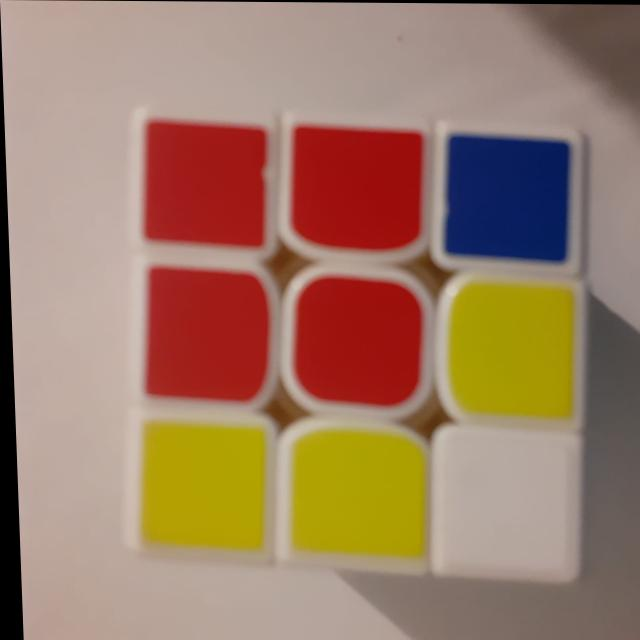Blue: (438, 130, 580, 264)
Red: (281, 116, 424, 258), (132, 111, 273, 253), (285, 270, 424, 410), (139, 263, 270, 403)
White: (426, 426, 581, 581)
Yellow: (434, 272, 576, 425), (281, 419, 423, 569), (134, 416, 263, 560)
